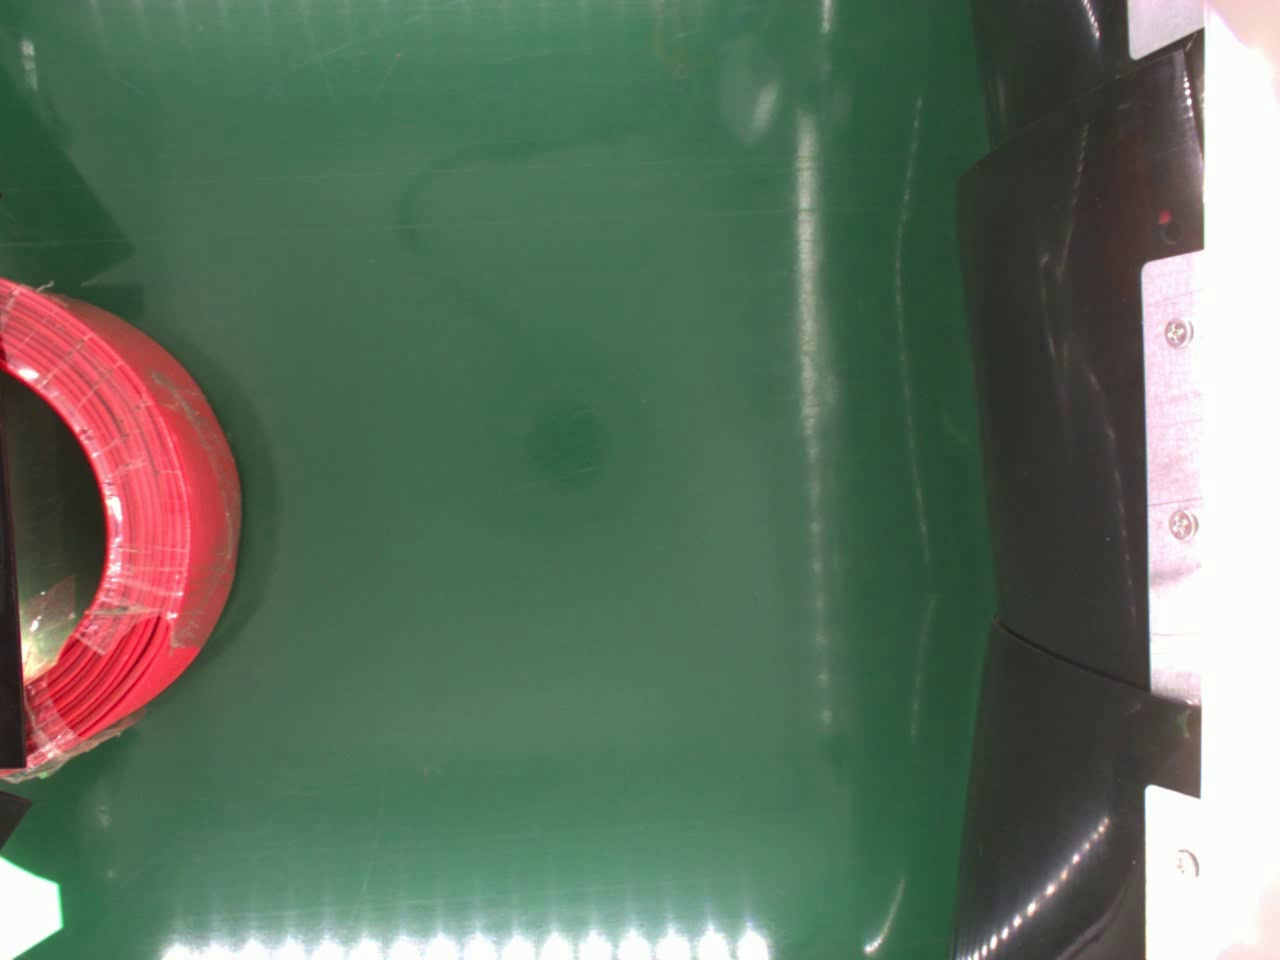red: (0, 277, 246, 777)
